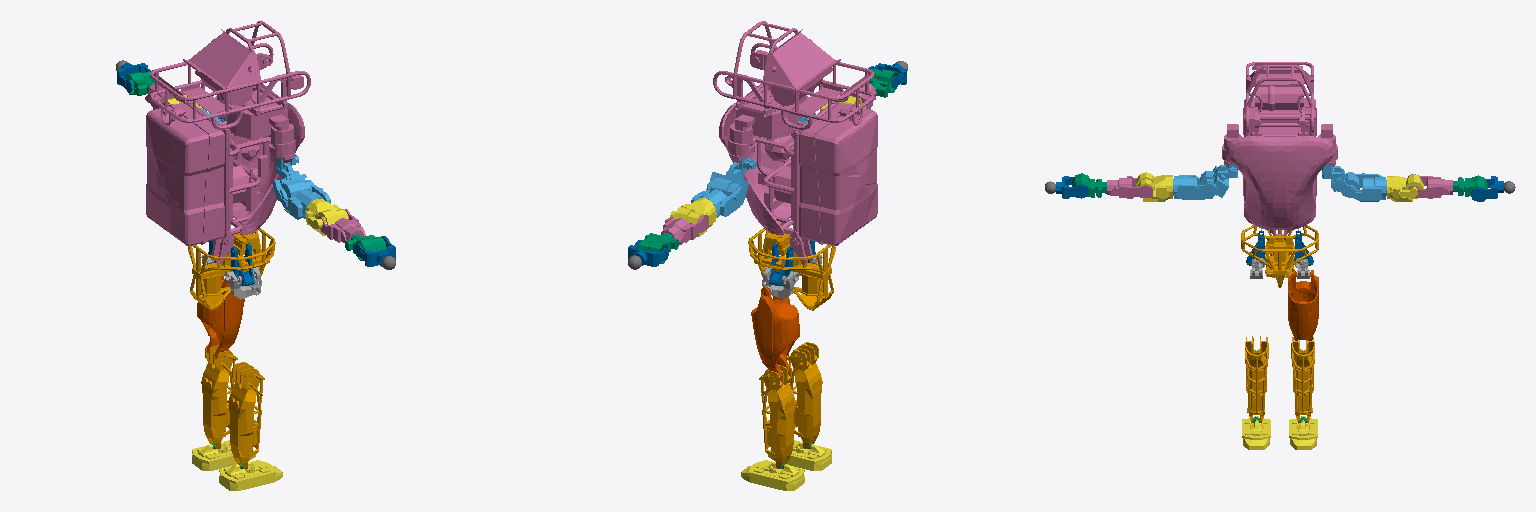
--- Render facts (derived) ---
The picture shows the robot from 3 angles, left to right: view 1: azimuth 30°, elevation 25°; view 2: azimuth 150°, elevation 25°; view 3: azimuth 270°, elevation 25°; orthographic projection.
Robot: multisense_sl — 31 links, 30 joints (30 revolute); root link pelvis; default pose: all joints at 0.
Visible links, largest first — view 1: utorso, pelvis, r_lleg, l_lleg, l_uleg, r_foot, r_scap, l_foot, r_uarm, r_clav, r_larm, r_lglut (+2 smaller); view 2: utorso, pelvis, l_uleg, l_lleg, r_lleg, l_foot, r_foot, l_scap, l_clav, l_uarm, l_larm, l_ufarm (+2 smaller); view 3: utorso, pelvis, l_uleg, r_lleg, l_lleg, l_scap, r_scap, l_foot, r_foot, l_uarm, r_uarm, r_larm (+3 smaller).
Boxes of the visible links, x1=… form: utorso: x1=146, y1=21, x2=310, y2=245; pelvis: x1=188, y1=223, x2=275, y2=310; r_lleg: x1=228, y1=362, x2=264, y2=468; l_lleg: x1=201, y1=344, x2=237, y2=448; l_uleg: x1=197, y1=276, x2=244, y2=358; r_foot: x1=219, y1=460, x2=282, y2=490; r_scap: x1=272, y1=180, x2=330, y2=219; l_foot: x1=192, y1=440, x2=255, y2=470; r_uarm: x1=305, y1=199, x2=348, y2=235; r_clav: x1=276, y1=154, x2=311, y2=197; r_larm: x1=318, y1=209, x2=365, y2=242; r_lglut: x1=224, y1=267, x2=261, y2=299; utorso: x1=713, y1=21, x2=877, y2=245; pelvis: x1=748, y1=223, x2=835, y2=310; l_uleg: x1=751, y1=287, x2=799, y2=378; l_lleg: x1=759, y1=364, x2=795, y2=468; r_lleg: x1=787, y1=342, x2=822, y2=448; l_foot: x1=741, y1=460, x2=804, y2=490; r_foot: x1=768, y1=440, x2=831, y2=470; l_scap: x1=691, y1=172, x2=745, y2=217; l_clav: x1=710, y1=158, x2=756, y2=197; l_uarm: x1=670, y1=198, x2=716, y2=236; l_larm: x1=661, y1=216, x2=707, y2=244; l_ufarm: x1=638, y1=233, x2=678, y2=263; utorso: x1=1222, y1=62, x2=1337, y2=229; pelvis: x1=1241, y1=225, x2=1318, y2=287; l_uleg: x1=1288, y1=270, x2=1318, y2=340; r_lleg: x1=1245, y1=336, x2=1268, y2=422; l_lleg: x1=1291, y1=337, x2=1314, y2=422; l_scap: x1=1339, y1=172, x2=1386, y2=201; r_scap: x1=1173, y1=166, x2=1217, y2=199; l_foot: x1=1289, y1=416, x2=1317, y2=449; r_foot: x1=1242, y1=416, x2=1270, y2=449; l_uarm: x1=1387, y1=174, x2=1423, y2=201; r_uarm: x1=1136, y1=172, x2=1172, y2=201; r_larm: x1=1107, y1=176, x2=1152, y2=198.
Bounding box of the posed robot: 0.6238 × 2.26 × 1.98 m (x, y, z).
Meshes: 23 distinct files referenced, 27 mesh visuals loaded (21 Collada DAE); not drawn: 2 (reference not matched to a file when rendering).

robot.urdf — multisense_sl:
<?xml version="1.0"?>
<robot name="multisense_sl">

<!-- head from multisense_sl_v4.urdf -->

  <link name="head">
    <inertial>
      <origin xyz="-0.075493 3.3383E-05 0.02774" rpy="0 0 0" />
      <mass value="1.41984" />
      <inertia iyy="0.0041178" ixy="-1.5797E-06" iyz="-6.8415E-07" ixx="0.0039688" ixz="-0.00089293" izz="0.0035243" />
    </inertial>
    <visual>
      <origin xyz="0 0 0" rpy="0 0 0" />
      <geometry>
        <mesh filename="multisense_sl_description/meshes/head.dae" />
      </geometry>
      <material name="">
        <color rgba="0.9098 0.44314 0.031373 1" />
      </material>
    </visual>
  <collision>
    <origin xyz="-0.0503 0 -0.00195" rpy="0 0 0" />
    <geometry>
      <box size="0.1311 0.12 0.0591"/>
    </geometry>
  </collision>
  <collision>
    <origin xyz="-0.093 0 0.0868" rpy="0 0 0" />
    <geometry>
      <box size="0.0468 0.12 0.1184"/>
    </geometry>
  </collision>
  </link>



<!-- from atlas_v4_simple_shapes.urdf -->

  <link name="l_clav">
    <inertial>
      <mass value="4.466"/>
      <origin rpy="0 -0 0" xyz="0 -0.048 -0.084"/>
      <inertia ixx="0.011" ixy="0" ixz="0" iyy="0.009" iyz="0.004" izz="0.004"/>
    </inertial>
    <visual>
      <geometry>
        <mesh filename="meshes_unplugged/r_clav.dae" scale="1 1 1"/>
      </geometry>
    </visual>
    <collision>
      <origin rpy="0 1.5707963267949 0" xyz="0 -0.11 -0.248"/>
      <geometry>
        <cylinder length="0.1525" radius="0.0555"/>
      </geometry>
    </collision>
    <collision>
      <origin rpy="0 0 0" xyz="0.005 -0.015 -0.08"/>
      <geometry>
        <cylinder length="0.26" radius="0.067"/>
      </geometry>
    </collision>
    <collision>
      <origin rpy="1.05 0 0" xyz="0.004 -0.064 -0.247"/>
      <geometry>
        <box size="0.1 0.07 0.072"/>
      </geometry>
    </collision>
  </link>
  <link name="l_ufarm">
    <inertial>
      <mass value="4.386"/>
      <origin rpy="0 -0 0" xyz="0 0.065 0"/>
      <inertia ixx="0.00656" ixy="0" ixz="0" iyy="0.00358" iyz="0" izz="0.00656"/>
    </inertial>
    <visual>
      <geometry>
        <mesh filename="meshes_v3/r_farm.dae" scale="1 1 1"/>
      </geometry>
    </visual>
    <collision>
      <origin rpy="0 1.5708 0" xyz="0.0 -0.13 0.004"/>
      <geometry>
        <cylinder length="0.125" radius="0.045"/>
      </geometry>
    </collision>
    <collision>
      <origin rpy="0 0 0" xyz="0.001 -0.053 -0.002"/>
      <geometry>
        <box size="0.135 0.1 0.045"/>
      </geometry>
    </collision>
  </link>
  <link name="l_foot">
    <inertial>
      <mass value="2.41"/>
      <origin rpy="0 -0 0" xyz="0.027 0 -0.067"/>
      <inertia ixx="0.002" ixy="0" ixz="0" iyy="0.007" iyz="0" izz="0.008"/>
    </inertial>
    <visual>
      <geometry>
        <mesh filename="meshes_unplugged/l_foot.dae" scale="1 1 1"/>
      </geometry>
    </visual>
    <collision>
      <origin rpy="0 0 0" xyz="0.023 0 -0.049119"/>
      <geometry>
        <box size="0.227 0.133887 0.05"/>
      </geometry>
    </collision>
    <collision>
      <origin rpy="0 0 0" xyz="0.1225 0 -0.0641"/>
      <geometry>
        <box size="0.1 0.08 0.02"/>
      </geometry>
    </collision>
  </link>
  <link name="l_lfarm">
    <inertial>
      <mass value="2.509"/>
      <origin rpy="0 -0 0" xyz="0 0 0"/>
      <inertia ixx="0.00265" ixy="0" ixz="0" iyy="0.00446" iyz="0" izz="0.00446"/>
    </inertial>
    <visual>
      <geometry>
        <mesh filename="meshes_v3/r_hand.dae" scale="1 1 1"/>
      </geometry>
      <origin rpy="0 3.14159265359 0" xyz="0 0 0"/>
    </visual>
    <collision>
      <origin rpy="1.5707963267949 0 0" xyz="0.001 -0.1 -0.01"/>
      <geometry>
        <cylinder length="0.05" radius="0.03"/>
      </geometry>
    </collision>
    <collision>
      <origin rpy="0 0 0" xyz="0.001 -0.05 -0.01"/>
      <geometry>
        <box size="0.13 0.09 0.07"/>
      </geometry>
    </collision>
  </link>
  <link name="l_hand">
    <inertial>
      <mass value="1.0"/><!-- some mass required here for simulation stability -->
      <origin rpy="0 0 0" xyz="0 0 0"/>
      <inertia ixx="0.0001" ixy="0" ixz="0" iyy="0.0001" iyz="0" izz="0.0001"/>
    </inertial>
    <visual>
      <origin rpy="0 0 0" xyz="0 -0.15 0.01"/>
      <geometry>
        <sphere radius="0.03"/>
      </geometry>
      <material name="dark">
        <color rgba="0.5 0.5 0.5 1" />
      </material>
    </visual>
    <collision>
      <origin rpy="0 0 0" xyz="0 -0.15 0.01"/>
      <geometry>
        <sphere radius="0.03"/>
      </geometry>
    </collision>
  </link>
  <link name="l_larm">
    <inertial>
      <mass value="3.248"/>
      <origin rpy="0 -0 0" xyz="0 0 0"/>
      <inertia ixx="0.00265" ixy="0" ixz="0" iyy="0.00446" iyz="0" izz="0.00446"/>
    </inertial>
    <visual>
      <geometry>
        <mesh filename="meshes_v3/r_larm.dae" scale="1 1 1"/>
      </geometry>
    </visual>
    <collision>
      <origin rpy="1.5707963267949 0 0" xyz="0.001 -0.127 0.00"/>
      <geometry>
        <cylinder length="0.125" radius="0.045"/>
      </geometry>
    </collision>
    <collision>
      <origin rpy="0 0 0" xyz="0.001 -0.051 0.0"/>
      <geometry>
        <box size="0.135 0.15 0.06"/>
      </geometry>
    </collision>
  </link>
  <link name="l_lglut">
    <inertial>
      <mass value="0.898"/>
      <origin rpy="0 -0 0" xyz="0.0133341 0.0170484 -0.0312052"/>
      <inertia ixx="0.000691326" ixy="-2.24344e-05" ixz="2.50508e-06" iyy="0.00126856" iyz="0.000137862" izz="0.00106487"/>
    </inertial>
    <visual>
      <geometry>
        <mesh filename="meshes_unplugged/l_lglut.dae" scale="1 1 1"/>
      </geometry>
    </visual>
    <collision>
      <origin rpy="0 0 0" xyz="0.015 0.026 -0.028"/>
      <geometry>
        <box size="0.125 0.05 0.08"/>
      </geometry>
    </collision>
    <collision>
      <origin rpy="1.5707963267949 0 0" xyz="0.05 0.027488 -0.067"/>
      <geometry>
        <cylinder length="0.060306" radius="0.02009687"/>
      </geometry>
    </collision>
    <collision>
      <origin rpy="0 1.5707963267949 0" xyz="0.0115 0 0"/>
      <geometry>
        <cylinder length="0.144" radius="0.02"/>
      </geometry>
    </collision>
  </link>
  <link name="l_lleg">
    <inertial>
      <mass value="4.515"/>
      <origin rpy="0 -0 0" xyz="0.001 0 -0.187"/>
      <inertia ixx="0.077" ixy="0" ixz="-0.003" iyy="0.076" iyz="0" izz="0.01"/>
    </inertial>
    <visual>
      <geometry>
        <mesh filename="meshes_unplugged/l_lleg.dae" scale="1 1 1"/>
      </geometry>
    </visual>
    <collision>
      <origin rpy="0 0.10 0" xyz="0.02 0.00295 -0.182"/>
      <geometry>
        <cylinder length="0.40" radius="0.07"/>
      </geometry>
    </collision>
  </link>
  <link name="l_scap">
    <inertial>
      <mass value="3.899"/>
      <origin rpy="0 -0 0" xyz="0 0 0"/>
      <inertia ixx="0.00319" ixy="0" ixz="0" iyy="0.00583" iyz="0" izz="0.00583"/>
    </inertial>
    <visual>
      <geometry>
        <mesh filename="meshes_unplugged/r_scap.dae" scale="1 1 1"/>
      </geometry>
    </visual>
    <collision>
      <origin rpy="1.5707963267949 0 0" xyz="-0.005 -0.115 -0.014"/>
      <geometry>
        <cylinder length="0.105" radius="0.057"/>
      </geometry>
    </collision>
    <collision>
      <origin rpy="0 0 0" xyz="-0.005 -0.075 -0.015"/>
      <geometry>
        <box size="0.16 0.17 0.08"/>
      </geometry>
    </collision>
    <collision>
      <origin rpy="2.25 0 0" xyz="0.076 -0.0615 0.0128"/>
      <geometry>
        <box size="0.02 0.029 0.018"/>
      </geometry>
    </collision>
    <collision>
      <origin rpy="1 0 0" xyz="-0.075 0.015 0.019"/>
      <geometry>
        <box size="0.028 0.090 0.05"/>
      </geometry>
    </collision>
  </link>
  <link name="l_talus">
    <inertial>
      <mass value="0.125"/>
      <origin rpy="0 -0 0" xyz="0 0 0"/>
      <inertia ixx="1.01674e-05" ixy="0" ixz="0" iyy="8.42775e-06" iyz="0" izz="1.30101e-05"/>
    </inertial>
    <visual>
      <geometry>
        <mesh filename="meshes_unplugged/l_talus.dae" scale="1 1 1"/>
      </geometry>
    </visual>
    <collision>
      <origin rpy="0 1.5707963267949 0" xyz="0 0 0"/>
      <geometry>
        <cylinder length="0.029542" radius="0.010181"/>
      </geometry>
    </collision>
    <collision>
      <origin rpy="1.5707963267949 0 0" xyz="0 0 0"/>
      <geometry>
        <cylinder length="0.010059" radius="0.010348"/>
      </geometry>
    </collision>
  </link>
  <link name="l_uarm">
    <inertial>
      <mass value="4.386"/>
      <origin rpy="0 -0 0" xyz="0 0.065 0"/>
      <inertia ixx="0.00656" ixy="0" ixz="0" iyy="0.00358" iyz="0" izz="0.00656"/>
    </inertial>
    <visual>
      <geometry>
        <mesh filename="meshes_unplugged/r_uarm.dae" scale="1 1 1"/>
      </geometry>
    </visual>
    <collision>
      <origin rpy="1.5708 0 0" xyz="0.0 -0.035 0.00"/>
      <geometry>
        <cylinder length="0.11" radius="0.065"/>
      </geometry>
    </collision>
    <collision>
      <origin rpy="0 1.5708 0" xyz="-0.005 -0.111 0.017"/>
      <geometry>
        <cylinder length="0.142" radius="0.047"/>
      </geometry>
    </collision>
    <collision>
      <origin rpy="0 1.5707963267949 0" xyz="-0.001 -0.043 0.01"/>
      <geometry>
        <box size="0.05 0.07 0.15"/>
      </geometry>
    </collision>
  </link>
  <link name="l_uglut">
    <inertial>
      <mass value="1.959"/>
      <origin rpy="0 -0 0" xyz="0.00529262 -0.00344732 0.00313046"/>
      <inertia ixx="0.00074276" ixy="-3.79607e-08" ixz="-2.79549e-05" iyy="0.000688179" iyz="-3.2735e-08" izz="0.00041242"/>
    </inertial>
    <visual>
      <geometry>
        <mesh filename="meshes_unplugged/l_uglut.dae" scale="1 1 1"/>
      </geometry>
    </visual>
    <collision>
      <origin rpy="0.52539 0 0" xyz="0.01 0.005 0"/>
      <geometry>
        <box size="0.05 0.1 0.1"/>
      </geometry>
    </collision>
    <collision>
      <origin rpy="0 0 0" xyz="0 0 0"/>
      <geometry>
        <cylinder length="0.080842" radius="0.019841"/>
      </geometry>
    </collision>
  </link>
  <link name="l_uleg">
    <inertial>
      <mass value="8.204"/>
      <origin rpy="0 -0 0" xyz="0 0 -0.21"/>
      <inertia ixx="0.09" ixy="0" ixz="0" iyy="0.09" iyz="0" izz="0.02"/>
    </inertial>
    <visual>
      <geometry>
        <mesh filename="meshes_unplugged/l_uleg.dae" scale="1 1 1"/>
      </geometry>
    </visual>
    <collision>
      <origin rpy="0 0 0" xyz="-0.0199 0.00585 -0.122"/>
      <geometry>
        <cylinder length="0.15" radius="0.09"/>
      </geometry>
    </collision>
    <collision>
      <origin rpy="0 -0.3 0" xyz="-0.032 -0.005 -0.224"/>
      <geometry>
        <cylinder length="0.15" radius="0.07"/>
      </geometry>
    </collision>
    <!-- to cover the logo shield -->
    <collision>
      <origin rpy="-0.15 0.13 0" xyz="0.003 0.015 -0.254"/>
      <geometry>
        <cylinder length="0.15" radius="0.05"/>
      </geometry>
    </collision>
    <!-- inside strut -->
    <collision>
      <origin rpy="0.0 0.0 0" xyz="-0.007 -0.053 -0.052"/>
      <geometry>
        <box size="0.07 0.038 0.15"/>
      </geometry>
    </collision>
    <!-- outside strut -->
    <collision>
      <origin rpy="0.0 0.0 0" xyz="-0.017 0.0595 -0.049"/>
      <geometry>
        <box size="0.07 0.038 0.14"/>
      </geometry>
    </collision>
  </link>
  <link name="ltorso">
    <inertial>
      <mass value="2.270"/>
      <origin rpy="0 -0 0" xyz="-0.0112984 -3.15366e-06 0.0746835"/>
      <inertia ixx="0.0039092" ixy="-5.04491e-08" ixz="-0.000342157" iyy="0.00341694" iyz="4.87119e-07" izz="0.00174492"/>
    </inertial>
    <visual>
      <geometry>
        <mesh filename="meshes_unplugged/ltorso.dae" scale="1 1 1"/>
      </geometry>
    </visual>
    <!-- this produces unwanted self-collision -->
    <!--collision>
      <origin rpy="0 0 0" xyz="0 0 0"/>
      <geometry>
        <sphere radius="0.11"/>
      </geometry>
    </collision-->
  </link>
  <link name="mtorso">
    <inertial>
      <mass value="0.799"/>
      <origin rpy="0 -0 0" xyz="-0.00816266 -0.0131245 0.0305974"/>
      <inertia ixx="0.000454181" ixy="-6.10764e-05" ixz="3.94009e-05" iyy="0.000483282" iyz="5.27463e-05" izz="0.000444215"/>
    </inertial>
    <visual>
      <geometry>
        <mesh filename="meshes_unplugged/mtorso.dae" scale="1 1 1"/>
      </geometry>
    </visual>
    <collision>
      <origin rpy="0 0 0" xyz="0.0 0 0.02"/>
      <geometry>
        <cylinder length="0.15" radius="0.02"/>
      </geometry>
    </collision>
  </link>
  <link name="pelvis">
    <inertial>
      <mass value="9.509"/>
      <origin rpy="0 -0 0" xyz="0.0111 0 0.0271"/>
      <inertia ixx="0.1244" ixy="0.0008" ixz="-0.0007" iyy="0.0958" iyz="-0.0005" izz="0.1167"/>
    </inertial>
    <visual>
      <geometry>
        <mesh filename="meshes_unplugged/pelvis.dae" scale="1 1 1"/>
      </geometry>
    </visual>
    <collision>
      <origin rpy="1.5707963267949 0 0" xyz="0.046 0.0 0.01"/>
      <geometry>
        <cylinder length="0.06" radius="0.11"/>
      </geometry>
    </collision>
    <collision>
      <origin rpy="1.5707963267949 0 0" xyz="-0.03 0.0 0.01"/>
      <geometry>
        <cylinder length="0.06" radius="0.11"/>
      </geometry>
    </collision>
    <collision>
      <origin rpy="0 0 0" xyz="0.01 0.042 0.09"/>
      <geometry>
        <cylinder length="0.05" radius="0.16"/>
      </geometry>
    </collision>
    <collision>
      <origin rpy="0 0 0" xyz="0.01 -0.042 0.09"/>
      <geometry>
        <cylinder length="0.05" radius="0.16"/>
      </geometry>
    </collision>
    <collision>
      <origin rpy="0 0 0" xyz="-0.1 0 -0.02"/>
      <geometry>
        <box size="0.1 0.15 0.2"/>
      </geometry>
    </collision>
  </link>
  <link name="r_clav">
    <inertial>
      <mass value="4.466"/>
      <origin rpy="0 -0 0" xyz="0 -0.048 -0.084"/>
      <inertia ixx="0.011" ixy="0" ixz="0" iyy="0.009" iyz="0.004" izz="0.004"/>
    </inertial>
    <visual>
      <geometry>
        <mesh filename="meshes_unplugged/r_clav.dae" scale="1 1 1"/>
      </geometry>
    </visual>
    <collision>
      <origin rpy="0 1.5707963267949 0" xyz="0 -0.11 -0.248"/>
      <geometry>
        <cylinder length="0.1525" radius="0.0555"/>
      </geometry>
    </collision>
    <collision>
      <origin rpy="0 0 0" xyz="0.005 -0.015 -0.08"/>
      <geometry>
        <cylinder length="0.26" radius="0.067"/>
      </geometry>
    </collision>
    <collision>
      <origin rpy="1.05 0 0" xyz="0.004 -0.064 -0.247"/>
      <geometry>
        <box size="0.1 0.07 0.072"/>
      </geometry>
    </collision>
  </link>
  <link name="r_ufarm">
    <inertial>
      <mass value="4.386"/>
      <origin rpy="0 -0 0" xyz="0 0.065 0"/>
      <inertia ixx="0.00656" ixy="0" ixz="0" iyy="0.00358" iyz="0" izz="0.00656"/>
    </inertial>
    <visual>
      <geometry>
        <mesh filename="meshes_v3/r_farm.dae" scale="1 1 1"/>
      </geometry>
    </visual>
    <collision>
      <origin rpy="0 1.5708 0" xyz="0.0 -0.13 0.004"/>
      <geometry>
        <cylinder length="0.125" radius="0.045"/>
      </geometry>
    </collision>
    <collision>
      <origin rpy="0 0 0" xyz="0.001 -0.053 -0.002"/>
      <geometry>
        <box size="0.135 0.1 0.045"/>
      </geometry>
    </collision>
  </link>
  <link name="r_foot">
    <inertial>
      <mass value="2.41"/>
      <origin rpy="0 -0 0" xyz="0.027 0 -0.067"/>
      <inertia ixx="0.002" ixy="0" ixz="0" iyy="0.007" iyz="0" izz="0.008"/>
    </inertial>
    <visual>
      <geometry>
        <mesh filename="meshes_unplugged/r_foot.dae" scale="1 1 1"/>
      </geometry>
    </visual>
    <collision>
      <origin rpy="0 0 0" xyz="0.023 0 -0.049119"/>
      <geometry>
        <box size="0.227 0.133887 0.05"/>
      </geometry>
    </collision>
    <collision>
      <origin rpy="0 0 0" xyz="0.1225 0 -0.0641"/>
      <geometry>
        <box size="0.1 0.08 0.02"/>
      </geometry>
    </collision>
  </link>
  <link name="r_lfarm">
    <inertial>
      <mass value="2.509"/>
      <origin rpy="0 -0 0" xyz="0 0 0"/>
      <inertia ixx="0.00265" ixy="0" ixz="0" iyy="0.00446" iyz="0" izz="0.00446"/>
    </inertial>
    <visual>
      <geometry>
        <mesh filename="meshes_v3/r_hand.dae" scale="1 1 1"/>
      </geometry>
      <origin rpy="0 3.14159265359 0" xyz="0 0 0"/>
    </visual>
    <collision>
      <origin rpy="1.5707963267949 0 0" xyz="0.001 -0.1 -0.01"/>
      <geometry>
        <cylinder length="0.05" radius="0.03"/>
      </geometry>
    </collision>
    <collision>
      <origin rpy="0 0 0" xyz="0.001 -0.05 -0.01"/>
      <geometry>
        <box size="0.13 0.09 0.07"/>
      </geometry>
    </collision>
  </link>
  <link name="r_hand">
    <inertial>
      <mass value="1.0"/><!-- some mass required here for simulation stability -->
      <origin rpy="0 0 0" xyz="0 0 0"/>
      <inertia ixx="0.0001" ixy="0" ixz="0" iyy="0.0001" iyz="0" izz="0.0001"/>
    </inertial>
    <visual>
      <origin rpy="0 0 0" xyz="0 -0.15 -0.01"/>
      <geometry>
        <sphere radius="0.03"/>
      </geometry>
      <material name="dark">
        <color rgba="0.5 0.5 0.5 1" />
      </material>
    </visual>
    <collision>
      <origin rpy="0 0 0" xyz="0 -0.15 -0.01"/>
      <geometry>
        <sphere radius="0.03"/>
      </geometry>
    </collision>
  </link>
  <link name="r_larm">
    <inertial>
      <mass value="3.248"/>
      <origin rpy="0 -0 0" xyz="0 0 0"/>
      <inertia ixx="0.00265" ixy="0" ixz="0" iyy="0.00446" iyz="0" izz="0.00446"/>
    </inertial>
    <visual>
      <geometry>
        <mesh filename="meshes_v3/r_larm.dae" scale="1 1 1"/>
      </geometry>
    </visual>
    <collision>
      <origin rpy="1.5707963267949 0 0" xyz="0.001 -0.127 0.00"/>
      <geometry>
        <cylinder length="0.125" radius="0.045"/>
      </geometry>
    </collision>
    <collision>
      <origin rpy="0 0 0" xyz="0.001 -0.051 0.0"/>
      <geometry>
        <box size="0.135 0.15 0.06"/>
      </geometry>
    </collision>
  </link>
  <link name="r_lglut">
    <inertial>
      <mass value="0.898"/>
      <origin rpy="0 -0 0" xyz="0.0133341 -0.0170484 -0.0312052"/>
      <inertia ixx="0.000691326" ixy="2.24344e-05" ixz="2.50508e-06" iyy="0.00126856" iyz="-0.000137862" izz="0.00106487"/>
    </inertial>
    <collision>
      <origin rpy="0 0 0" xyz="0.015 -0.026 -0.028"/>
      <geometry>
        <box size="0.125 0.05 0.08"/>
      </geometry>
    </collision>
    <visual>
      <geometry>
        <mesh filename="meshes_unplugged/r_lglut.dae" scale="1 1 1"/>
      </geometry>
    </visual>
    <collision>
      <origin rpy="1.5707963267949 0 0" xyz="0.05 -0.027488 -0.067"/>
      <geometry>
        <cylinder length="0.060306" radius="0.02009687"/>
      </geometry>
    </collision>
    <collision>
      <origin rpy="0 1.5707963267949 0" xyz="0.0105 0 0"/>
      <geometry>
        <cylinder length="0.142" radius="0.02"/>
      </geometry>
    </collision>
  </link>
  <link name="r_lleg">
    <inertial>
      <mass value="4.515"/>
      <origin rpy="0 -0 0" xyz="0.001 0 -0.187"/>
      <inertia ixx="0.077" ixy="-0" ixz="-0.003" iyy="0.076" iyz="-0" izz="0.01"/>
    </inertial>
    <visual>
      <geometry>
        <mesh filename="meshes_unplugged/r_lleg.dae" scale="1 1 1"/>
      </geometry>
    </visual>
    <collision>
      <origin rpy="0 0.10 0" xyz="0.02 -0.00295 -0.182"/>
      <geometry>
        <cylinder length="0.40" radius="0.07"/>
      </geometry>
    </collision>
  </link>
  <link name="r_scap">
    <inertial>
      <mass value="3.899"/>
      <origin rpy="0 -0 0" xyz="0 0 0"/>
      <inertia ixx="0.00319" ixy="0" ixz="0" iyy="0.00583" iyz="0" izz="0.00583"/>
    </inertial>
    <visual>
      <geometry>
        <mesh filename="meshes_unplugged/r_scap.dae" scale="1 1 1"/>
      </geometry>
    </visual>
    <collision>
      <origin rpy="1.5707963267949 0 0" xyz="-0.005 -0.115 -0.014"/>
      <geometry>
        <cylinder length="0.105" radius="0.057"/>
      </geometry>
    </collision>
    <collision>
      <origin rpy="0 0 0" xyz="-0.005 -0.075 -0.015"/>
      <geometry>
        <box size="0.16 0.17 0.08"/>
      </geometry>
    </collision>
    <collision>
      <origin rpy="2.25 0 0" xyz="0.076 -0.0615 0.0128"/>
      <geometry>
        <box size="0.02 0.029 0.018"/>
      </geometry>
    </collision>
    <collision>
      <origin rpy="1 0 0" xyz="-0.075 0.015 0.019"/>
      <geometry>
        <box size="0.028 0.090 0.05"/>
      </geometry>
    </collision>
  </link>
  <link name="r_talus">
    <inertial>
      <mass value="0.125"/>
      <origin rpy="0 -0 0" xyz="0 0 0"/>
      <inertia ixx="1.01674e-05" ixy="0" ixz="0" iyy="8.42775e-06" iyz="0" izz="1.30101e-05"/>
    </inertial>
    <visual>
      <geometry>
        <mesh filename="meshes_unplugged/r_talus.dae" scale="1 1 1"/>
      </geometry>
    </visual>
    <collision>
      <origin rpy="0 1.5707963267949 0" xyz="0 0 0"/>
      <geometry>
        <cylinder length="0.029542" radius="0.010181"/>
      </geometry>
    </collision>
    <collision>
      <origin rpy="1.5707963267949 0 0" xyz="0 0 0"/>
      <geometry>
        <cylinder length="0.010059" radius="0.010348"/>
      </geometry>
    </collision>
  </link>
  <link name="r_uarm">
    <inertial>
      <mass value="4.386"/>
      <origin rpy="0 -0 0" xyz="0 0.065 0"/>
      <inertia ixx="0.00656" ixy="0" ixz="0" iyy="0.00358" iyz="0" izz="0.00656"/>
    </inertial>
    <visual>
      <geometry>
        <mesh filename="meshes_unplugged/r_uarm.dae" scale="1 1 1"/>
      </geometry>
    </visual>
    <collision>
      <origin rpy="1.5708 0 0" xyz="0.0 -0.035 0.00"/>
      <geometry>
        <cylinder length="0.11" radius="0.065"/>
      </geometry>
    </collision>
    <collision>
      <origin rpy="0 1.5708 0" xyz="-0.005 -0.111 0.017"/>
      <geometry>
        <cylinder length="0.142" radius="0.047"/>
      </geometry>
    </collision>
    <collision>
      <origin rpy="0 1.5707963267949 0" xyz="-0.001 -0.043 0.01"/>
      <geometry>
        <box size="0.05 0.07 0.15"/>
      </geometry>
    </collision>
  </link>
  <link name="r_uglut">
    <inertial>
      <mass value="1.959"/>
      <origin rpy="0 -0 0" xyz="0.00529262 0.00344732 0.00313046"/>
      <inertia ixx="0.00074276" ixy="3.79607e-08" ixz="-2.79549e-05" iyy="0.000688179" iyz="3.2735e-08" izz="0.00041242"/>
    </inertial>
    <visual>
      <geometry>
        <mesh filename="meshes_unplugged/r_uglut.dae" scale="1 1 1"/>
      </geometry>
    </visual>
    <collision>
      <origin rpy="-0.52539 0 0" xyz="0.01 -0.005 0"/>
      <geometry>
        <box size="0.05 0.1 0.1"/>
      </geometry>
    </collision>
    <collision>
      <origin rpy="0 0 0" xyz="0 0 0"/>
      <geometry>
        <cylinder length="0.080842" radius="0.019841"/>
      </geometry>
    </collision>
  </link>
  <link name="r_uleg">
    <inertial>
      <mass value="8.204"/>
      <origin rpy="0 -0 0" xyz="0 0 -0.21"/>
      <inertia ixx="0.09" ixy="0" ixz="0" iyy="0.09" iyz="0" izz="0.02"/>
    </inertial>
    <visual>
      <geometry>
        <mesh filename="meshes_unplugged/r_uleg.dae" scale="1 1 1"/>
      </geometry>
    </visual>
    <collision>
      <origin rpy="0 0 0" xyz="-0.0199 -0.00585 -0.122"/>
      <geometry>
        <cylinder length="0.15" radius="0.09"/>
      </geometry>
    </collision>
    <collision>
      <origin rpy="0 -0.3 0" xyz="-0.032 0.005 -0.224"/>
      <geometry>
        <cylinder length="0.15" radius="0.07"/>
      </geometry>
    </collision>
    <!-- to cover the logo shield -->
    <collision>
      <origin rpy="0.15 0.13 0" xyz="0.003 -0.015 -0.254"/>
      <geometry>
        <cylinder length="0.15" radius="0.05"/>
      </geometry>
    </collision>
    <!-- inside strut -->
    <collision>
      <origin rpy="0.0 0.0 0" xyz="-0.007 0.053 -0.052"/>
      <geometry>
        <box size="0.07 0.038 0.15"/>
      </geometry>
    </collision>
    <!-- outside strut -->
    <collision>
      <origin rpy="0.0 0.0 0" xyz="-0.017 -0.0595 -0.049"/>
      <geometry>
        <box size="0.07 0.038 0.14"/>
      </geometry>
    </collision>
  </link>
  <!-- with backpack -->
  <link name="utorso">
    <inertial>
      <mass value="84.409"/>
      <origin rpy="0 -0 0" xyz="-0.0622 0.0023 0.3157"/>
      <inertia ixx="1.577" ixy="-0.032" ixz="0.102" iyy="1.602" iyz="0.047" izz="0.565"/>
    </inertial>
    <visual>
      <geometry>
        <mesh filename="meshes_unplugged/utorso.dae" scale="1 1 1"/>
      </geometry>
    </visual>
    <collision>
      <origin rpy="0 0 0" xyz="-0.102 0 0.25"/>
      <geometry>
        <box size="0.4 0.35 0.5"/>
      </geometry>
    </collision>
    <collision>
      <origin rpy="0 1.5707 0" xyz="0.2 0 0.46"/>
      <geometry>
        <box size="0.13 0.50 0.10"/>
      </geometry>
    </collision>
    <collision>
      <origin rpy="0 1.7 0" xyz="0.2 0 0.285"/>
      <geometry>
        <box size="0.2 0.23 0.10"/>
      </geometry>
    </collision>
    <collision>
      <origin rpy="0 2.0 0" xyz="0.15 0 0.10"/>
      <geometry>
        <box size="0.2 0.18 0.10"/>
      </geometry>
    </collision>
    <collision>
      <origin rpy="0 0 0" xyz="-0.035 0 0.6265"/>
      <geometry>
        <box size="0.506306 0.341719 0.12"/>
      </geometry>
    </collision>
    <collision>
      <origin rpy="1.5707 0 0" xyz="0.208 0 0.8215"/>
      <geometry>
        <cylinder length="0.13" radius="0.008"/>
      </geometry>
    </collision>
    <collision>
      <origin rpy="-0.38535 0 0" xyz="0.208 -0.125 0.745"/>
      <geometry>
        <cylinder length="0.15" radius="0.008"/>
      </geometry>
    </collision>
    <collision>
      <origin rpy="0.38535 0 0" xyz="0.208 0.125 0.745"/>
      <geometry>
        <cylinder length="0.15" radius="0.008"/>
      </geometry>
    </collision>
    <collision>
      <origin rpy="-0.38535 0 0" xyz="0.063 -0.125 0.745"/>
      <geometry>
        <cylinder length="0.15" radius="0.008"/>
      </geometry>
    </collision>
    <collision>
      <origin rpy="0.38535 0 0" xyz="0.063 0.125 0.745"/>
      <geometry>
        <cylinder length="0.15" radius="0.008"/>
      </geometry>
    </collision>
    <collision>
      <origin rpy="1.5707 0 1.5707" xyz="0.14 0.06 0.8215"/>
      <geometry>
        <cylinder length="0.15" radius="0.008"/>
      </geometry>
    </collision>
    <collision>
      <origin rpy="1.5707 0 1.5707" xyz="0.14 -0.06 0.8215"/>
      <geometry>
        <cylinder length="0.15" radius="0.008"/>
      </geometry>
    </collision>
    <collision>
      <origin rpy="0 -0.65 0" xyz="-0.029 0 0.731"/>
      <geometry>
        <box size="0.2 0.25 0.01"/>
      </geometry>
    </collision>
    <collision>
      <origin rpy="1.5707 0 0" xyz="0.063 0 0.8215"/>
      <geometry>
        <cylinder length="0.13" radius="0.008"/>
      </geometry>
    </collision>
    <collision>
      <origin rpy="1.5707 0 0" xyz="0.261 0.156 0.6215"/>
      <geometry>
        <cylinder length="0.016" radius="0.055"/>
      </geometry>
    </collision>
    <collision>
      <origin rpy="1.5707 0 0" xyz="0.261 -0.156 0.6215"/>
      <geometry>
        <cylinder length="0.016" radius="0.055"/>
      </geometry>
    </collision>
  </link>
  <joint name="back_bkx" type="revolute">
    <origin rpy="0 -0 0" xyz="0 0 0.05"/>
    <axis xyz="1 0 0"/>
    <parent link="mtorso"/>
    <child link="utorso"/>
    <dynamics damping="0.1" friction="0"/>
    <limit effort="300" lower="-0.523599" upper="0.523599" velocity="12"/>
    <safety_controller k_position="100" k_velocity="100" soft_lower_limit="-10.5236" soft_upper_limit="10.5236"/>
  </joint>
  <joint name="back_bky" type="revolute">
    <origin rpy="0 -0 0" xyz="0 0 0.162"/>
    <axis xyz="0 1 0"/>
    <parent link="ltorso"/>
    <child link="mtorso"/>
    <dynamics damping="0.1" friction="0"/>
    <limit effort="445" lower="-0.219388" upper="0.538783" velocity="9"/>
    <safety_controller k_position="100" k_velocity="100" soft_lower_limit="-10.2194" soft_upper_limit="10.5388"/>
  </joint>
  <joint name="back_bkz" type="revolute">
    <origin rpy="0 -0 0" xyz="-0.0125 0 0"/>
    <axis xyz="0 0 1"/>
    <parent link="pelvis"/>
    <child link="ltorso"/>
    <dynamics damping="0.1" friction="0"/>
    <limit effort="106" lower="-0.663225" upper="0.663225" velocity="12"/>
    <safety_controller k_position="100" k_velocity="100" soft_lower_limit="-10.6632" soft_upper_limit="10.6632"/>
  </joint>
  <joint name="l_arm_elx" type="revolute">
    <origin rpy="0 -0 0" xyz="0 -0.119 0.0092"/>
    <axis xyz="-1.0 -0.0 -0.0"/>
    <parent link="l_uarm"/>
    <child link="l_larm"/>
    <dynamics damping="0.2" friction="0"/>
    <limit effort="112" lower="0" upper="2.35619" velocity="12"/>
    <safety_controller k_position="100" k_velocity="100" soft_lower_limit="-10" soft_upper_limit="12.3562"/>
  </joint>
  <joint name="l_arm_ely" type="revolute">
    <origin rpy="0 -0 0" xyz="0 -0.187 -0.016"/>
    <axis xyz="-0.0 -1.0 -0.0"/>
    <parent link="l_scap"/>
    <child link="l_uarm"/>
    <dynamics damping="0.2" friction="0"/>
    <limit effort="63" lower="0" upper="3.14159" velocity="12"/>
    <safety_controller k_position="100" k_velocity="100" soft_lower_limit="-10" soft_upper_limit="13.1416"/>
  </joint>
  <joint name="l_arm_shx" type="revolute">
    <origin rpy="0 -0 0" xyz="0 -0.11 -0.245"/>
    <axis xyz="-1.0 -0.0 -0.0"/>
    <parent link="l_clav"/>
    <child link="l_scap"/>
    <dynamics damping="0.1" friction="0"/>
    <limit effort="99" lower="-1.5708" upper="1.5708" velocity="12"/>
    <safety_controller k_position="100" k_velocity="100" soft_lower_limit="-11.5708" soft_upper_limit="11.5708"/>
  </joint>
  <joint name="l_arm_shz" type="revolute">
    <origin rpy="0 0 3.14159265359" xyz="0.1406 0.2256 0.4776"/>
    <axis xyz="0 0 1"/>
    <parent link="utorso"/>
    <child link="l_clav"/>
    <dynamics damping="0.1" friction="0"/>
    <limit effort="87" lower="-1.5708" upper="0.785398" velocity="12"/>
    <safety_controller k_position="100" k_velocity="100" soft_lower_limit="-11.5708" soft_upper_limit="10.7854"/>
    <!-- note, this is opposite of v1 and v3 -->
  </joint>
  <joint name="l_arm_wrx" type="revolute">
    <origin rpy="0 -0 0" xyz="0 -0.119 0.0092"/>
    <axis xyz="1 0 0"/>
    <parent link="l_ufarm"/>
    <child link="l_lfarm"/>
    <dynamics damping="0.1" friction="0"/>
    <limit effort="25" lower="-1.1781" upper="1.1781" velocity="12"/>
    <safety_controller k_position="100" k_velocity="100" soft_lower_limit="-11.1781" soft_upper_limit="11.1781"/>
  </joint>
  <joint name="l_arm_wry" type="revolute">
    <origin rpy="0 3.14159265359 0" xyz="0 -0.187 -0.0092"/>
    <axis xyz="-0.0 -1.0 -0.0"/>
    <parent link="l_larm"/>
    <child link="l_ufarm"/>
    <dynamics damping="0.1" friction="0"/>
    <limit effort="25" lower="0" upper="3.14159" velocity="12"/>
    <safety_controller k_position="100" k_velocity="100" soft_lower_limit="-10" soft_upper_limit="13.1416"/>
  </joint>
  <joint name="l_arm_wry2" type="revolute">
    <origin rpy="0 3.14159265359 0" xyz="0 0 0"/>
    <axis xyz="0 1 0"/>
    <parent link="l_lfarm"/>
    <child link="l_hand"/>
    <dynamics damping="0.1" friction="0"/>
    <limit effort="5" lower="-0.001" upper="0.001" velocity="1"/>
    <safety_controller k_position="1" k_velocity="0.01" soft_lower_limit="0" soft_upper_limit="0.1"/>
  </joint>
  <joint name="l_leg_akx" type="revolute">
    <origin rpy="0 -0 0" xyz="0 0 0"/>
    <axis xyz="1 0 0"/>
    <parent link="l_talus"/>
    <child link="l_foot"/>
    <dynamics damping="0.1" friction="0"/>
    <!--limit effort="360" lower="-0.8" upper="0.8" velocity="12"/-->
    <limit effort="45" lower="-0.8" upper="0.8" velocity="12"/>
    <safety_controller k_position="100" k_velocity="100" soft_lower_limit="-10.8" soft_upper_limit="10.8"/>
  </joint>
  <joint name="l_leg_aky" type="revolute">
    <origin rpy="0 -0 0" xyz="0 0 -0.422"/>
    <axis xyz="0 1 0"/>
    <parent link="l_lleg"/>
    <child link="l_talus"/>
    <dynamics damping="0.1" friction="0"/>
    <!--limit effort="740" lower="-1" upper="0.7" velocity="12"/-->
    <limit effort="92" lower="-1" upper="0.7" velocity="12"/>
    <safety_controller k_position="100" k_velocity="100" soft_lower_limit="-11" soft_upper_limit="10.7"/>
  </joint>
  <joint name="l_leg_hpx" type="revolute">
    <origin rpy="0 -0 0" xyz="0 0 0"/>
    <axis xyz="1 0 0"/>
    <parent link="l_uglut"/>
    <child link="l_lglut"/>
    <dynamics damping="0.1" friction="0"/>
    <limit effort="530" lower="-0.523599" upper="0.523599" velocity="12"/>
    <safety_controller k_position="100" k_velocity="100" soft_lower_limit="-10.5236" soft_upper_limit="10.5236"/>
  </joint>
  <joint name="l_leg_hpy" type="revolute">
    <origin rpy="0 -0 0" xyz="0.05 0.0225 -0.066"/>
    <axis xyz="0 1 0"/>
    <parent link="l_lglut"/>
    <child link="l_uleg"/>
    <dynamics damping="0.1" friction="0"/>
    <limit effort="840" lower="-1.61234" upper="0.65764" velocity="12"/>
    <safety_controller k_position="100" k_velocity="100" soft_lower_limit="-11.6123" soft_upper_limit="10.6576"/>
  </joint>
  <joint name="l_leg_hpz" type="revolute">
    <origin rpy="0 -0 0" xyz="0 0.089 0"/>
    <axis xyz="0 0 1"/>
    <parent link="pelvis"/>
    <child link="l_uglut"/>
    <dynamics damping="0.1" friction="0"/>
    <limit effort="275" lower="-0.174358" upper="0.786794" velocity="12"/>
    <safety_controller k_position="100" k_velocity="100" soft_lower_limit="-10.1744" soft_upper_limit="10.7868"/>
  </joint>
  <joint name="l_leg_kny" type="revolute">
    <origin rpy="0 -0 0" xyz="-0.05 0 -0.374"/>
    <axis xyz="0 1 0"/>
    <parent link="l_uleg"/>
    <child link="l_lleg"/>
    <dynamics damping="0.2" friction="0"/>
    <limit effort="890" lower="0" upper="2.35637" velocity="12"/>
    <safety_controller k_position="100" k_velocity="100" soft_lower_limit="-10" soft_upper_limit="12.3564"/>
  </joint>
  <joint name="neck_ry" type="revolute">
    <origin rpy="0 -0 0" xyz="0.2546 0 0.6215"/>
    <axis xyz="0 1 0"/>
    <parent link="utorso"/>
    <child link="head"/>
    <dynamics damping="0.1" friction="0"/>
    <limit effort="5" lower="-0.602139" upper="1.14319" velocity="6.28"/>
    <safety_controller k_position="100" k_velocity="100" soft_lower_limit="-10.6021" soft_upper_limit="11.1432"/>
  </joint>
  <joint name="r_arm_elx" type="revolute">
    <origin rpy="0 -0 0" xyz="0 -0.119 0.0092"/>
    <axis xyz="1 0 0"/>
    <parent link="r_uarm"/>
    <child link="r_larm"/>
    <dynamics damping="0.2" friction="0"/>
    <limit effort="112" lower="-2.35619" upper="0" velocity="12"/>
    <safety_controller k_position="100" k_velocity="100" soft_lower_limit="-12.3562" soft_upper_limit="10"/>
  </joint>
  <joint name="r_arm_ely" type="revolute">
    <origin rpy="0 -0 0" xyz="0 -0.187 -0.016"/>
    <axis xyz="0 1 0"/>
    <parent link="r_scap"/>
    <child link="r_uarm"/>
    <dynamics damping="0.2" friction="0"/>
    <limit effort="63" lower="0" upper="3.14159" velocity="12"/>
    <safety_controller k_position="100" k_velocity="100" soft_lower_limit="-10" soft_upper_limit="13.1416"/>
  </joint>
  <joint name="r_arm_shx" type="revolute">
    <origin rpy="0 -0 0" xyz="0 -0.11 -0.245"/>
    <axis xyz="1 0 0"/>
    <parent link="r_clav"/>
    <child link="r_scap"/>
    <dynamics damping="0.1" friction="0"/>
    <limit effort="99" lower="-1.5708" upper="1.5708" velocity="12"/>
    <safety_controller k_position="100" k_velocity="100" soft_lower_limit="-11.5708" soft_upper_limit="11.5708"/>
  </joint>
  <joint name="r_arm_shz" type="revolute">
    <origin rpy="0 -0 0" xyz="0.1406 -0.2256 0.4776"/>
    <axis xyz="0 0 1"/>
    <!-- note, this is opposite of v1 and v3 -->
    <parent link="utorso"/>
    <child link="r_clav"/>
    <dynamics damping="0.1" friction="0"/>
    <limit effort="87" lower="-0.785398" upper="1.5708" velocity="12"/>
    <safety_controller k_position="100" k_velocity="100" soft_lower_limit="-10.7854" soft_upper_limit="11.5708"/>
  </joint>
  <joint name="r_arm_wrx" type="revolute">
    <origin rpy="0 -0 0" xyz="0 -0.119 0.0092"/>
    <axis xyz="1 0 0"/>
    <parent link="r_ufarm"/>
    <child link="r_lfarm"/>
    <dynamics damping="0.1" friction="0"/>
    <limit effort="25" lower="-1.1781" upper="1.1781" velocity="12"/>
    <safety_controller k_position="100" k_velocity="100" soft_lower_limit="-11.1781" soft_upper_limit="11.1781"/>
  </joint>
  <joint name="r_arm_wry" type="revolute">
    <origin rpy="0 -0 0" xyz="0 -0.187 -0.0092"/>
    <axis xyz="0 1 0"/>
    <parent link="r_larm"/>
    <child link="r_ufarm"/>
    <dynamics damping="0.1" friction="0"/>
    <limit effort="25" lower="0" upper="3.14159" velocity="12"/>
    <safety_controller k_position="100" k_velocity="100" soft_lower_limit="-10" soft_upper_limit="13.1416"/>
  </joint>
  <joint name="r_arm_wry2" type="revolute">
    <origin rpy="0 0 0" xyz="0 0 0"/>
    <axis xyz="0 1 0"/>
    <parent link="r_lfarm"/>
    <child link="r_hand"/>
    <dynamics damping="0.1" friction="0"/>
    <limit effort="5" lower="-0.001" upper="0.001" velocity="1"/>
    <safety_controller k_position="1" k_velocity="0.01" soft_lower_limit="0" soft_upper_limit="0.1"/>
  </joint>
  <joint name="r_leg_akx" type="revolute">
    <origin rpy="0 -0 0" xyz="0 0 0"/>
    <axis xyz="1 0 0"/>
    <parent link="r_talus"/>
    <child link="r_foot"/>
    <dynamics damping="0.1" friction="0"/>
    <!--limit effort="360" lower="-0.8" upper="0.8" velocity="12"/-->
    <limit effort="45" lower="-0.8" upper="0.8" velocity="12"/>
    <safety_controller k_position="100" k_velocity="100" soft_lower_limit="-10.8" soft_upper_limit="10.8"/>
  </joint>
  <joint name="r_leg_aky" type="revolute">
    <origin rpy="0 -0 0" xyz="0 0 -0.422"/>
    <axis xyz="0 1 0"/>
    <parent link="r_lleg"/>
    <child link="r_talus"/>
    <dynamics damping="0.1" friction="0"/>
    <!--limit effort="740" lower="-1" upper="0.7" velocity="12"/-->
    <limit effort="92" lower="-1" upper="0.7" velocity="12"/>
    <safety_controller k_position="100" k_velocity="100" soft_lower_limit="-11" soft_upper_limit="10.7"/>
  </joint>
  <joint name="r_leg_hpx" type="revolute">
    <origin rpy="0 -0 0" xyz="0 0 0"/>
    <axis xyz="1 0 0"/>
    <parent link="r_uglut"/>
    <child link="r_lglut"/>
    <dynamics damping="0.1" friction="0"/>
    <limit effort="530" lower="-0.523599" upper="0.523599" velocity="12"/>
    <safety_controller k_position="100" k_velocity="100" soft_lower_limit="-10.5236" soft_upper_limit="10.5236"/>
  </joint>
  <joint name="r_leg_hpy" type="revolute">
    <origin rpy="0 -0 0" xyz="0.05 -0.0225 -0.066"/>
    <axis xyz="0 1 0"/>
    <parent link="r_lglut"/>
    <child link="r_uleg"/>
    <dynamics damping="0.1" friction="0"/>
    <limit effort="840" lower="-1.61234" upper="0.65764" velocity="12"/>
    <safety_controller k_position="100" k_velocity="100" soft_lower_limit="-11.6123" soft_upper_limit="10.6576"/>
  </joint>
  <joint name="r_leg_hpz" type="revolute">
    <origin rpy="0 -0 0" xyz="0 -0.089 0"/>
    <axis xyz="0 0 1"/>
    <parent link="pelvis"/>
    <child link="r_uglut"/>
    <dynamics damping="0.1" friction="0"/>
    <limit effort="275" lower="-0.786794" upper="0.174358" velocity="12"/>
    <safety_controller k_position="100" k_velocity="100" soft_lower_limit="-10.7868" soft_upper_limit="10.1744"/>
  </joint>
  <joint name="r_leg_kny" type="revolute">
    <origin rpy="0 -0 0" xyz="-0.05 0 -0.374"/>
    <axis xyz="0 1 0"/>
    <parent link="r_uleg"/>
    <child link="r_lleg"/>
    <dynamics damping="0.2" friction="0"/>
    <limit effort="890" lower="0" upper="2.35637" velocity="12"/>
    <safety_controller k_position="100" k_velocity="100" soft_lower_limit="-10" soft_upper_limit="12.3564"/>
  </joint>
</robot>
